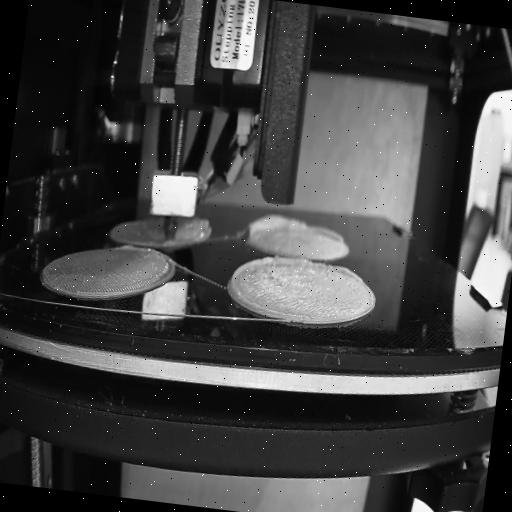over_extrusion: (226, 249, 306, 323), (244, 208, 310, 249), (309, 219, 347, 246), (329, 262, 365, 282), (197, 212, 213, 236), (114, 242, 136, 254)
